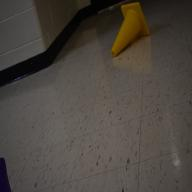cone: (111, 2, 149, 57)
cube: (0, 157, 11, 192)
